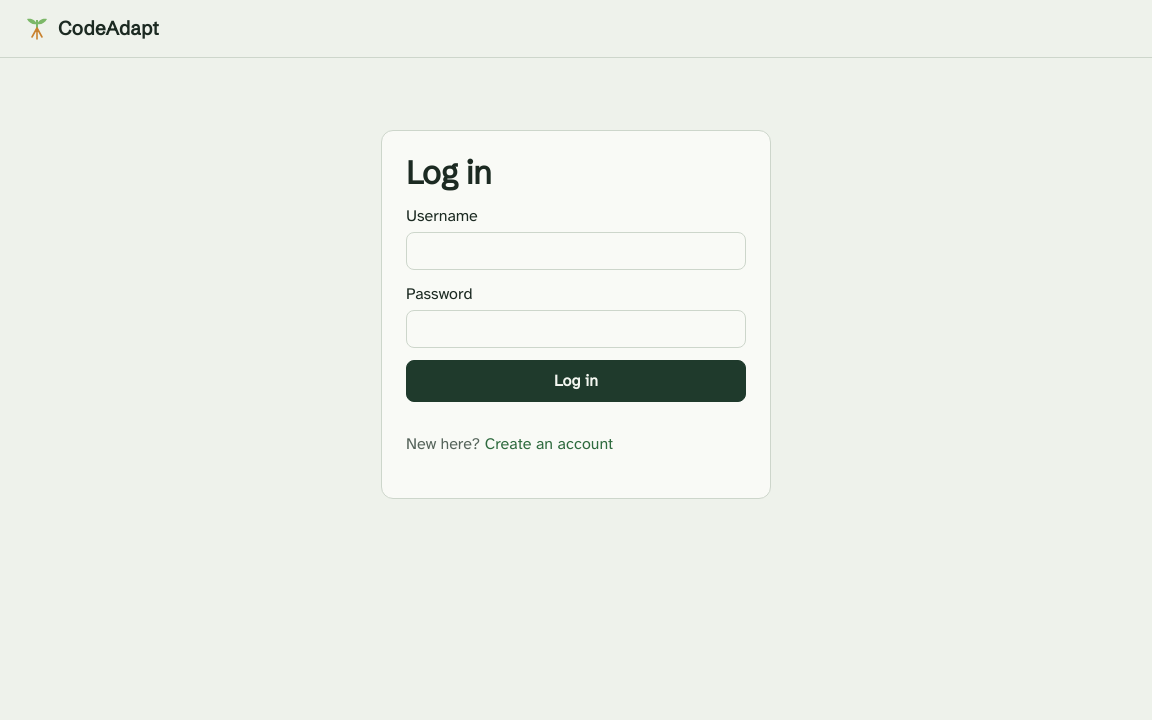
Test case: sign-up › asks for no invite code when the deployment runs open sign-up
Click the button "Create an account" at (549, 444), box x1=485 y1=430 x2=613 y2=458
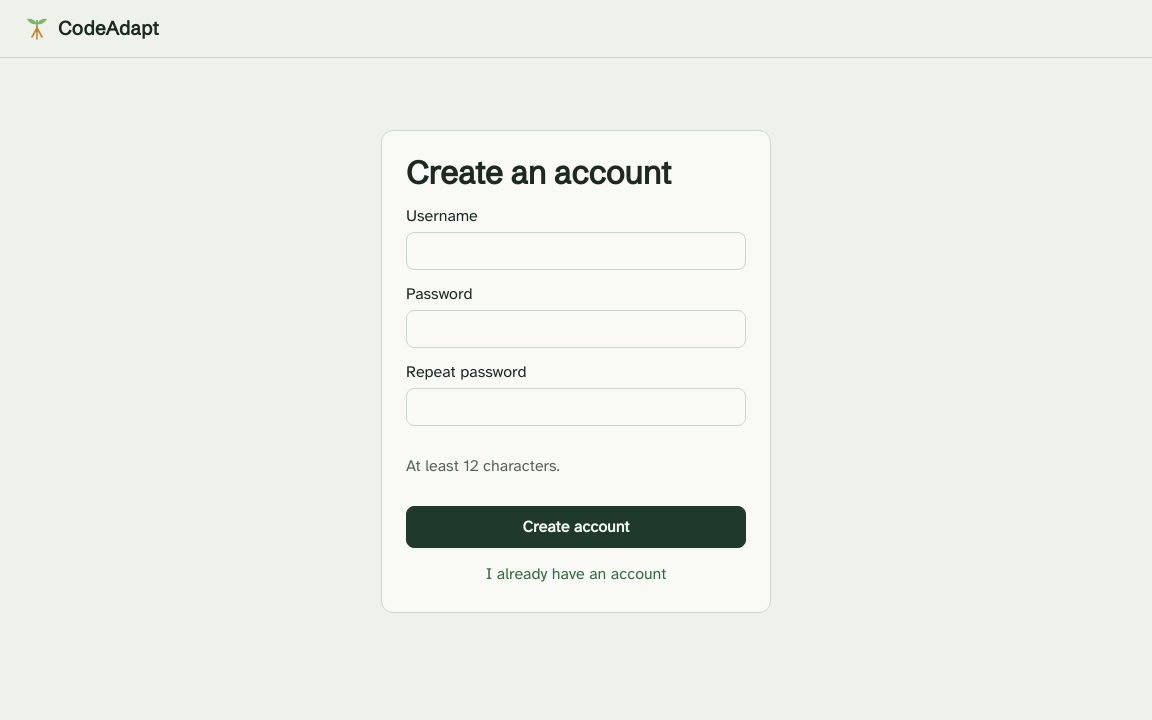
Type "newbie" into the field labelled "Username" at (576, 251), box x1=406 y1=232 x2=746 y2=270
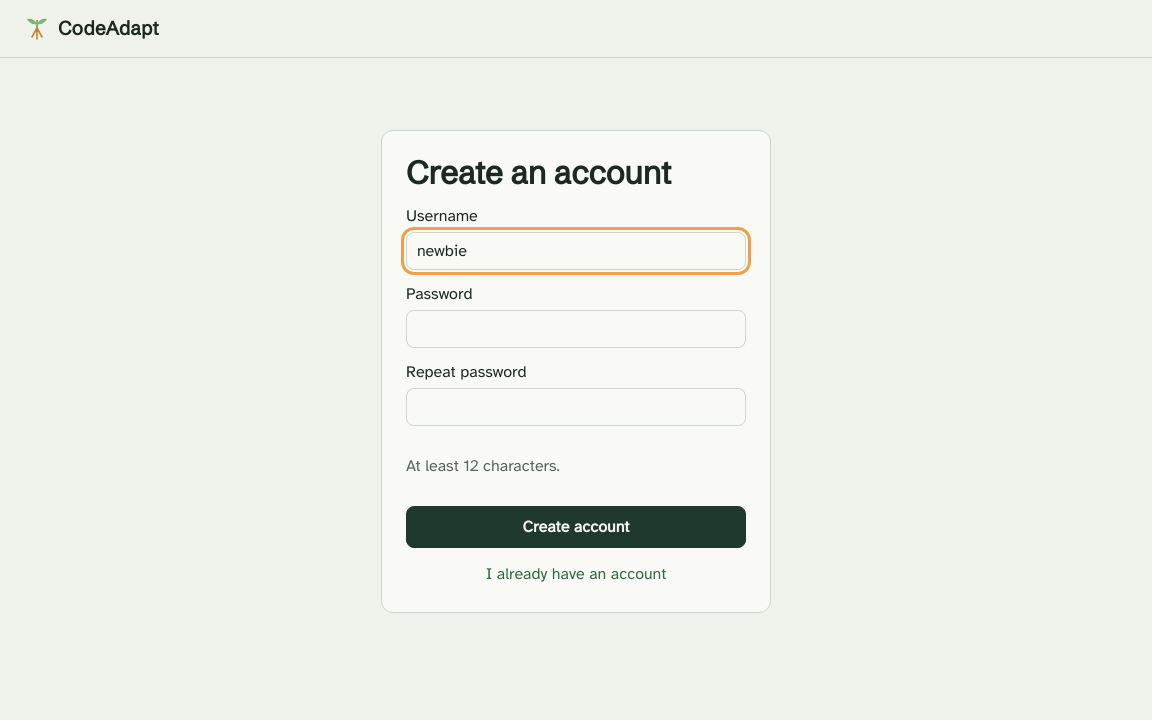
Type "correct horse battery" into the password field labelled "Password" at (576, 329), box x1=406 y1=310 x2=746 y2=348
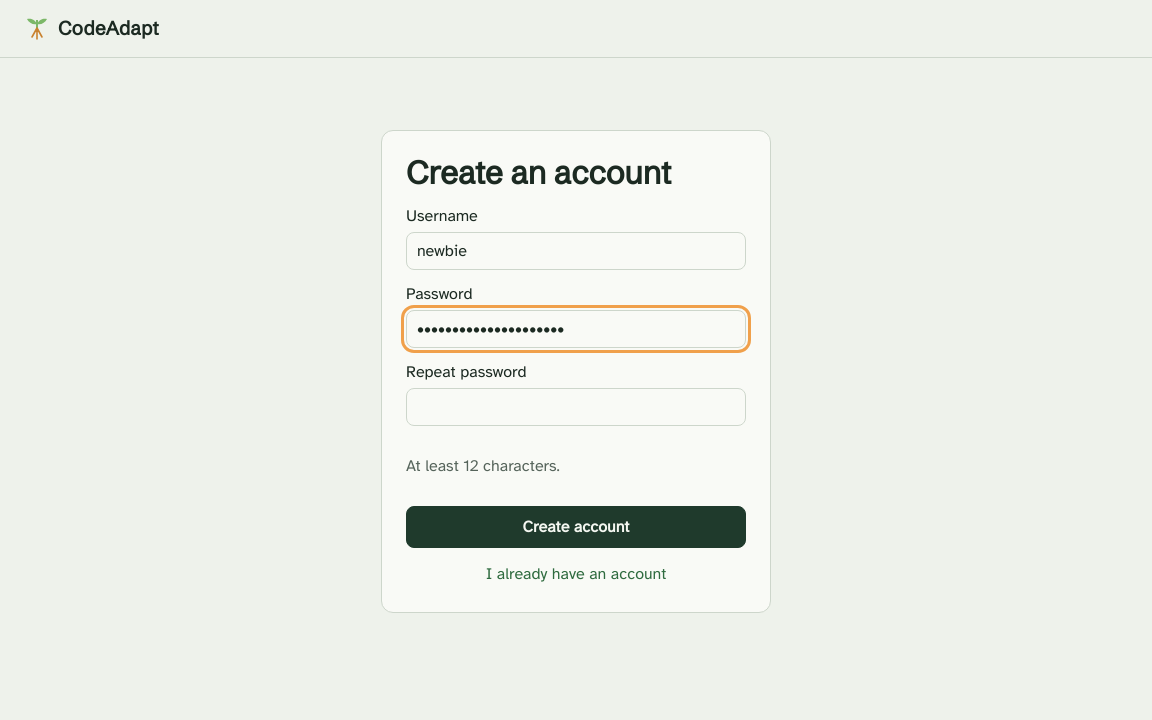
Type "correct horse battery" into the password field labelled "Repeat password" at (576, 407), box x1=406 y1=388 x2=746 y2=426
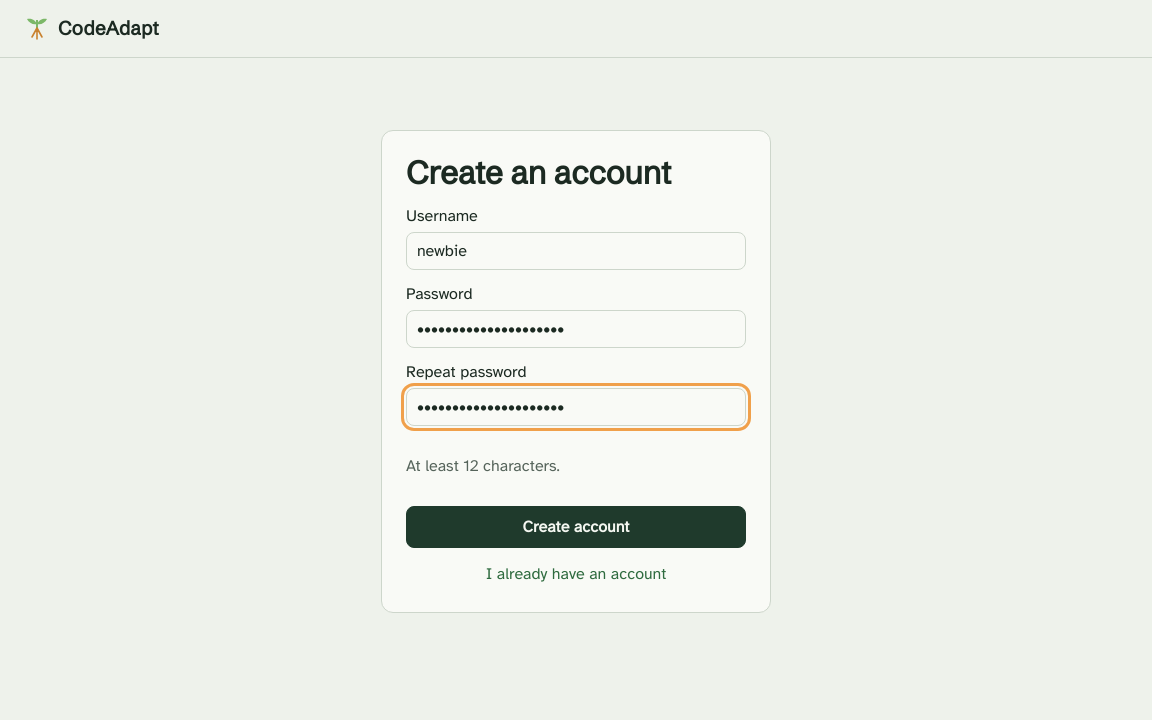
Click the button "Create account" at (576, 527), box x1=406 y1=506 x2=746 y2=548
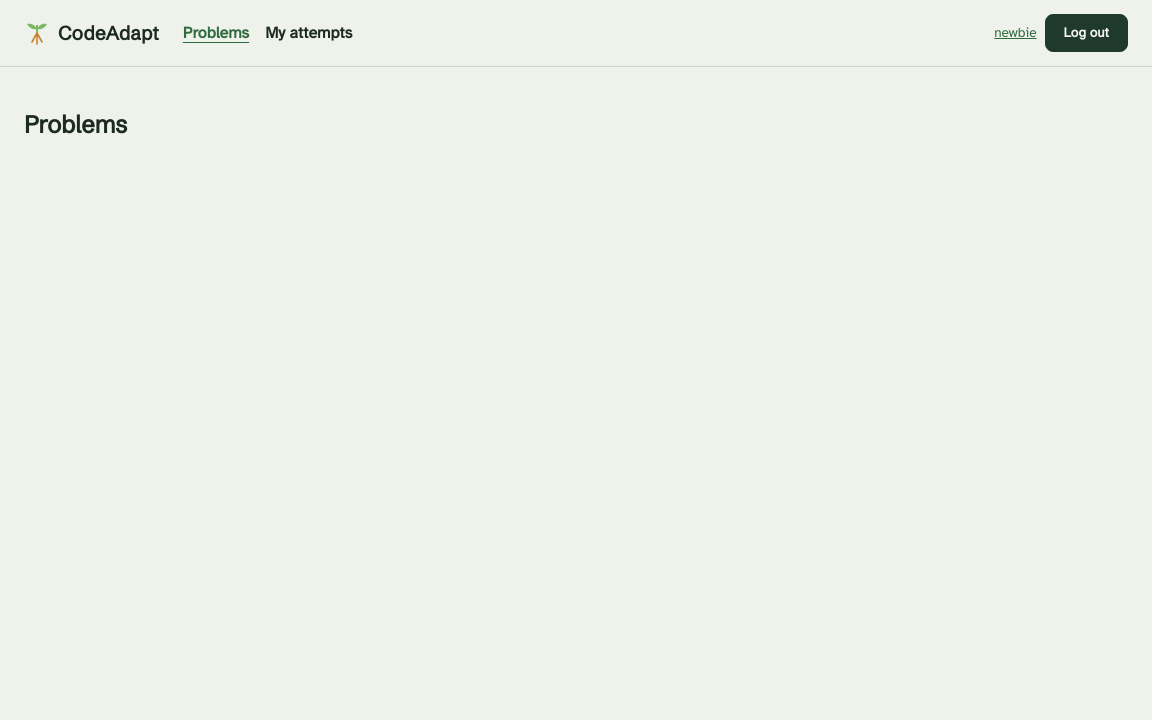
Result: the link "newbie" is shown at x1=994 y1=23 x2=1037 y2=43
